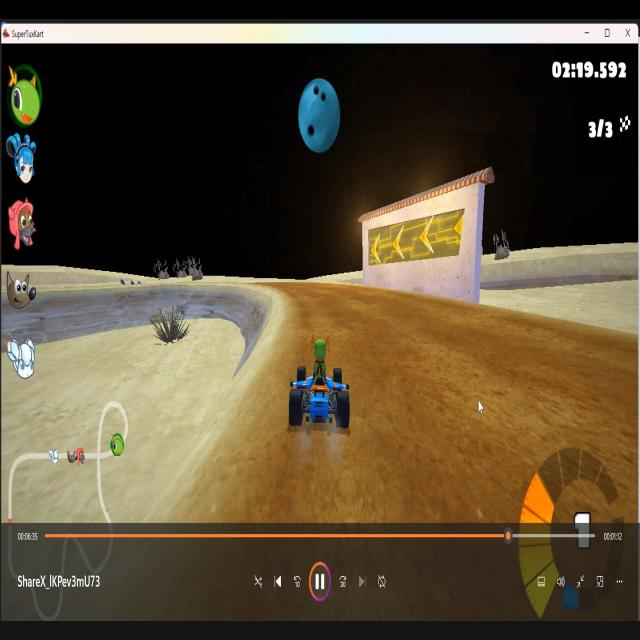nitro: (119, 277, 128, 285)
player_kart: (288, 336, 348, 432)
track: (244, 435, 640, 530), (350, 327, 640, 439), (292, 307, 532, 329), (288, 285, 424, 306), (255, 278, 294, 288)
